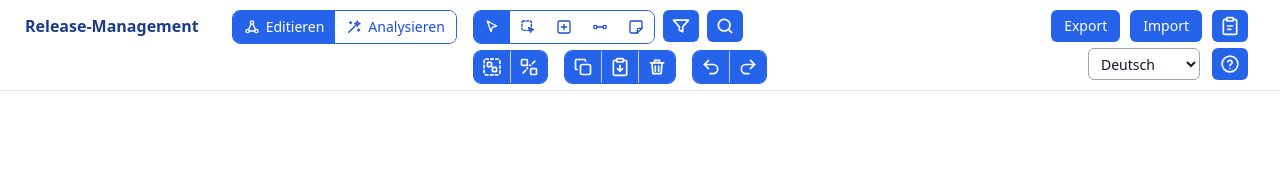
Toolbar › mode switch › explains both modes in tooltips
Hover over the button "Analysieren": (396, 27) [335, 11, 456, 43]
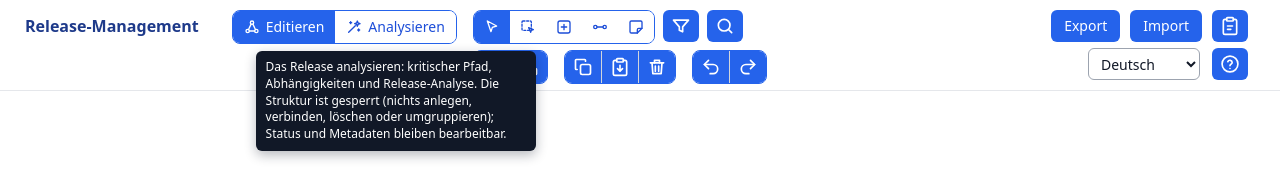
Now the tooltip shows "Die Struktur ist gesperrt", box [266, 58, 506, 142]
